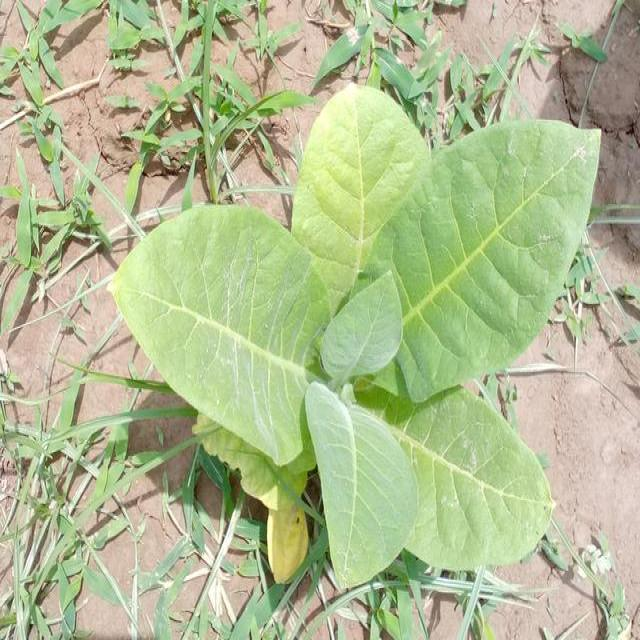crop: (131, 91, 595, 597)
